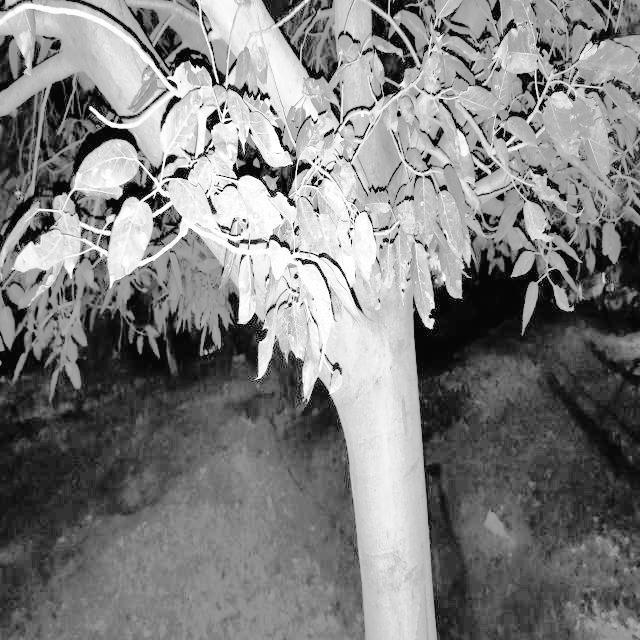Tree: (136, 0, 466, 640)
